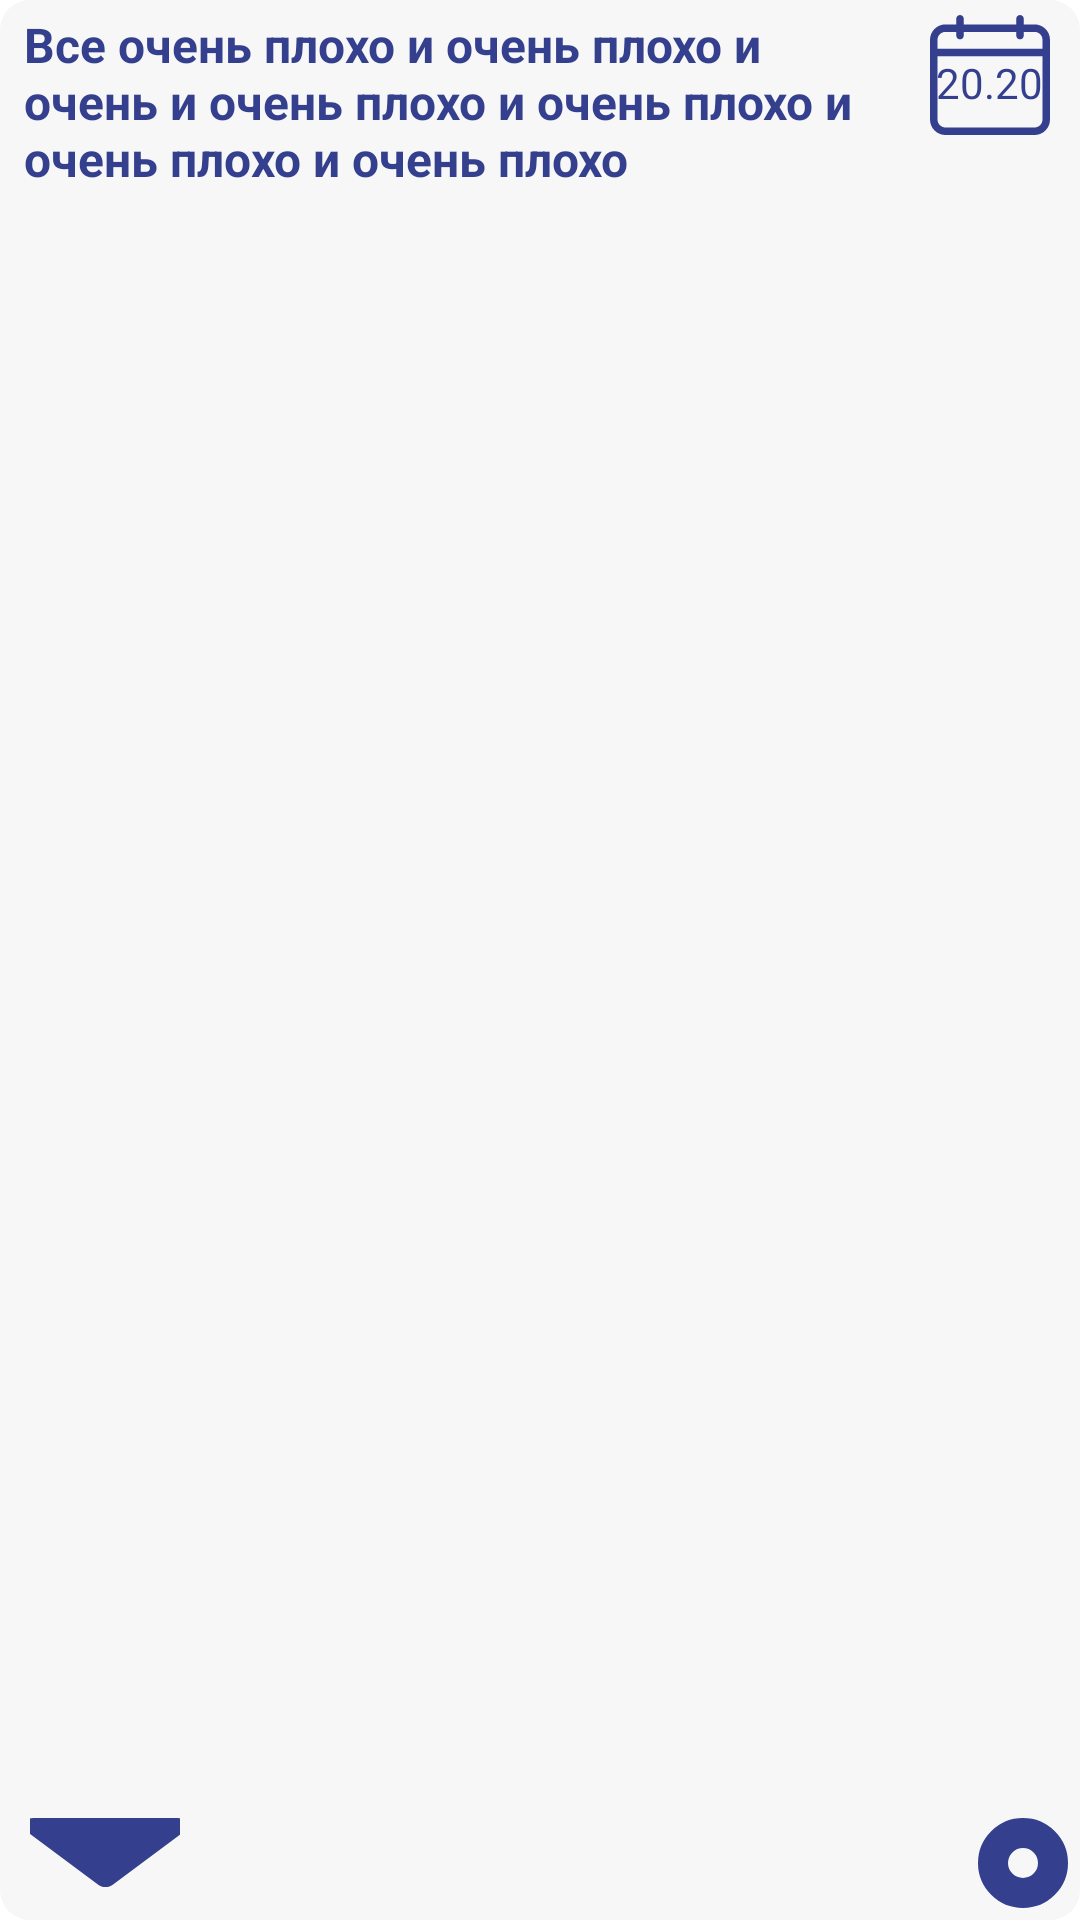

Point at icon controls on the screen. Image size 1080x1920, points as (x=x, y=y).
calendar: (x=990, y=75)
expand: (x=105, y=1852)
